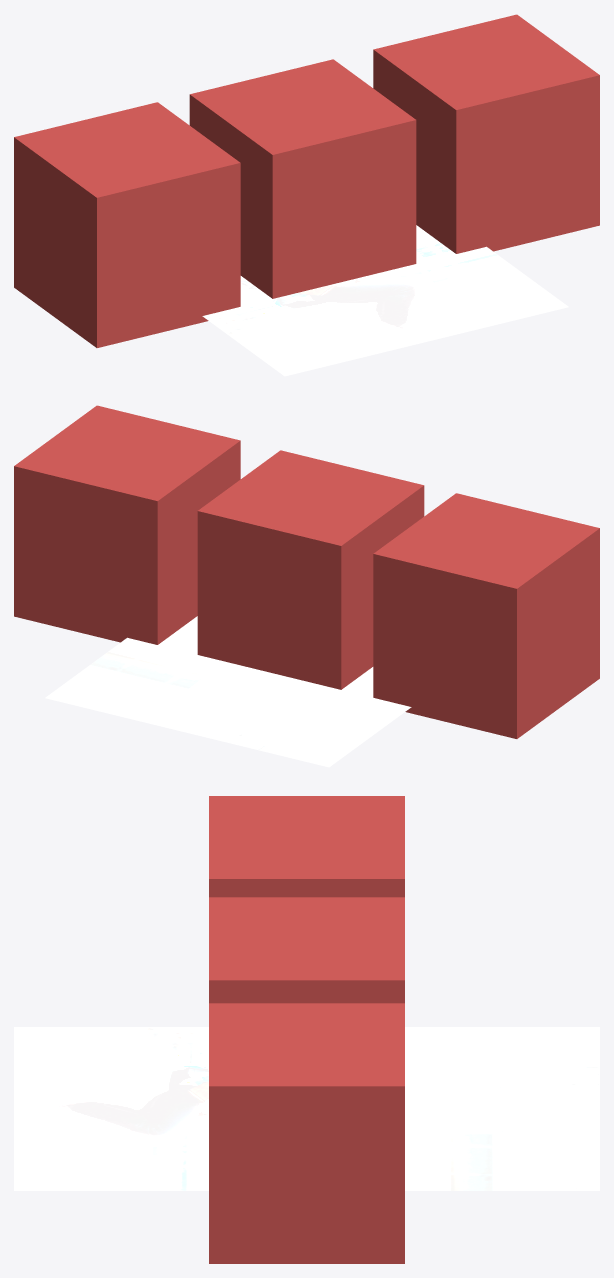
File: scene-size-test2.gltf
3 renders of one model, top to bottom at view 1: azimuth 30°, elevation 25°; view 2: azimuth 150°, elevation 25°; view 3: azimuth 270°, elevation 25°, orthographic. The views are drawn at different scales.
Visible parts, largest first — view 1: Cube.001, Cube.002, Cube, random3; view 2: Cube.001, Cube.002, Cube, random3; view 3: random3, Cube.002, Cube, Cube.001.
Part boxes in pixels (x1=…): Cube.001: x1=14, y1=102, x2=240, y2=347; Cube.002: x1=373, y1=14, x2=599, y2=253; Cube: x1=189, y1=59, x2=416, y2=298; random3: x1=202, y1=225, x2=568, y2=376; Cube.001: x1=373, y1=493, x2=599, y2=738; Cube.002: x1=14, y1=405, x2=240, y2=644; Cube: x1=197, y1=450, x2=424, y2=689; random3: x1=45, y1=616, x2=411, y2=767; random3: x1=14, y1=1027, x2=599, y2=1190; Cube.002: x1=209, y1=1003, x2=404, y2=1263; Cube: x1=209, y1=897, x2=404, y2=1003; Cube.001: x1=209, y1=796, x2=404, y2=897.
Bounding box in the file's own units: 1.17 × 0.3345 × 1.
